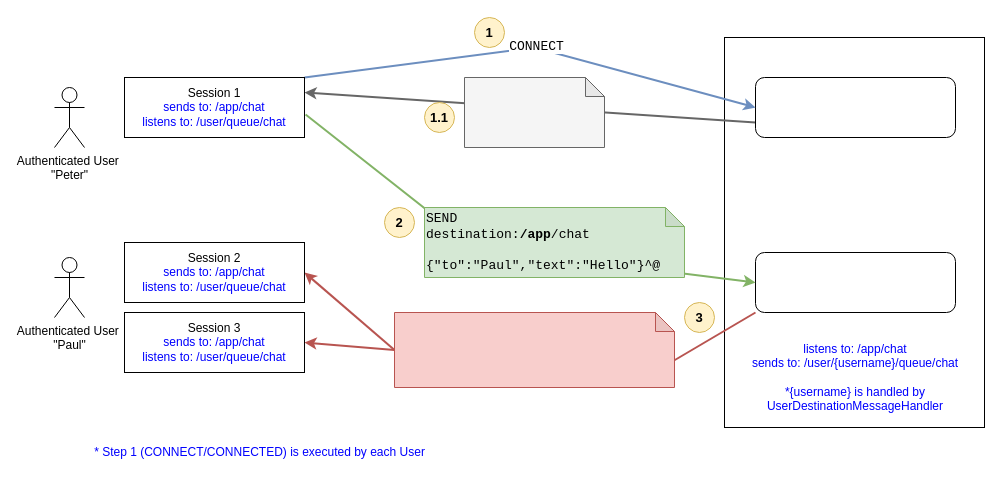
Image size: 1002x480. Some labels were removed from this diagram. Here are the shapes that lost their labels. From the top down, the box of each, then its label:
(464, 76, 604, 148): CONNECTED version:1.1 heart-beat:0,0 user-name:Peter
(754, 76, 956, 138): @Configuration Endpoint http://localhost:8080/chat
(724, 36, 984, 428): Server
(754, 252, 956, 312): @Controller @MessageMapping("/chat")
(394, 312, 674, 388): MESSAGE destination: /user /queue /chat {"from":"Peter","text":"Hello"}^@
